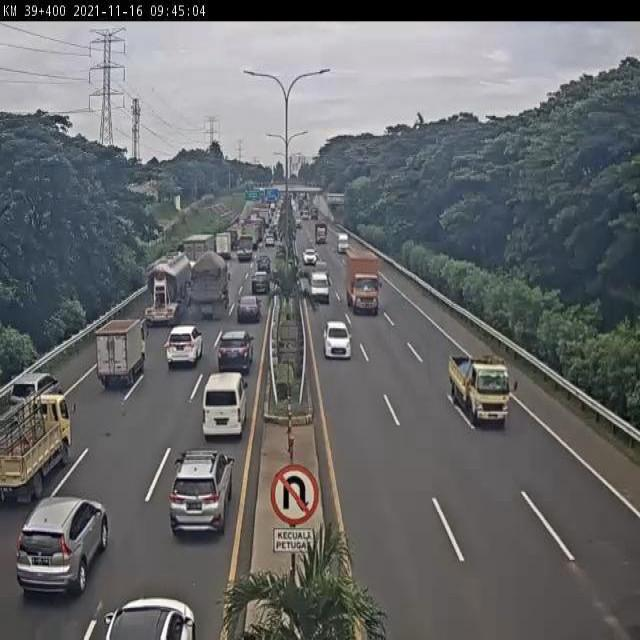car: (17, 498, 106, 598), (169, 452, 231, 537), (216, 332, 251, 377), (164, 325, 199, 363), (324, 323, 352, 361), (309, 268, 330, 301), (237, 297, 259, 327), (252, 273, 271, 295), (255, 254, 272, 278)
small bus: (202, 373, 247, 438)
small truck: (0, 392, 70, 503), (447, 349, 509, 432), (96, 316, 146, 389)
truck-l-: (187, 256, 227, 325), (180, 236, 217, 292)
truck-m-: (345, 251, 382, 316)
truck-xl-: (143, 250, 194, 326)
